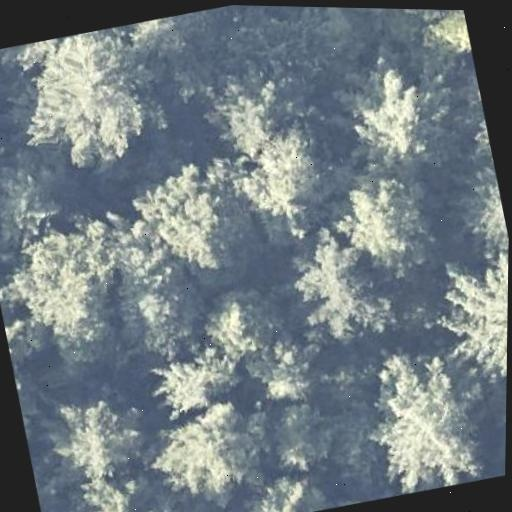tree-top: (0, 17, 179, 184), (347, 338, 507, 502), (0, 212, 128, 360), (282, 216, 408, 357), (130, 144, 254, 283), (108, 218, 218, 368), (333, 49, 457, 181), (147, 395, 269, 511), (195, 58, 315, 168), (423, 245, 509, 394), (228, 115, 337, 230), (332, 163, 437, 276), (42, 385, 150, 491), (140, 338, 243, 424), (260, 390, 352, 479), (244, 327, 334, 412), (443, 162, 510, 253), (230, 458, 338, 512), (208, 286, 282, 363), (455, 69, 499, 186), (57, 466, 149, 512), (425, 10, 474, 71), (104, 492, 209, 512)
